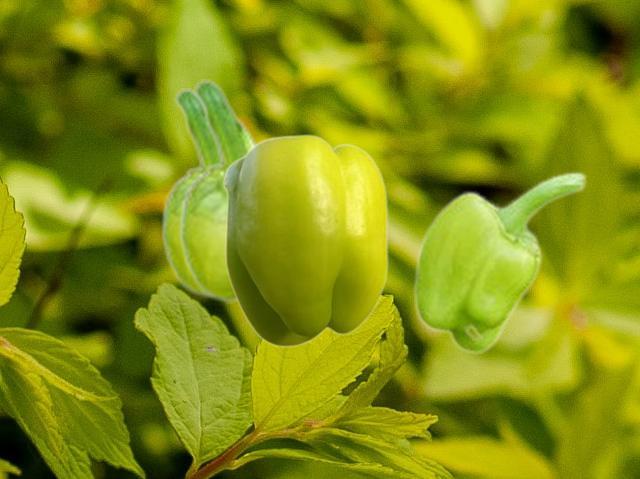bell_pepper: (222, 133, 387, 346), (412, 170, 587, 354), (178, 79, 258, 302), (160, 88, 217, 296)
